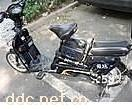电动车: (1, 1, 131, 98)
